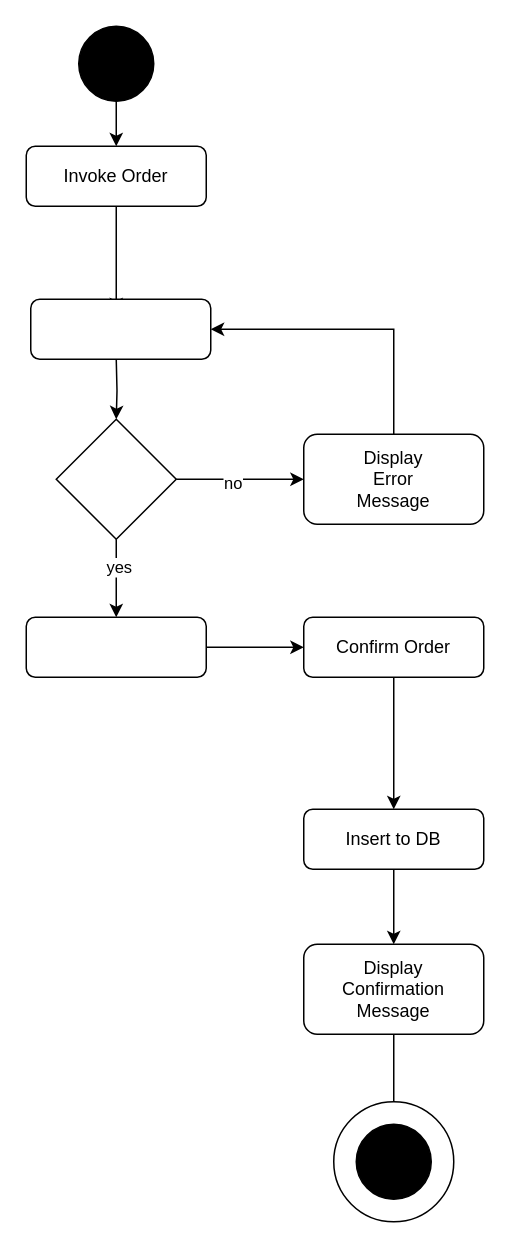
Image size: 510x1248. Some labels were removed from this diagram. Each missing label, with the box of its shape:
Display Order info: (25, 616, 206, 677)
is valid data?: (55, 418, 176, 539)
Select order items: (29, 298, 211, 359)
